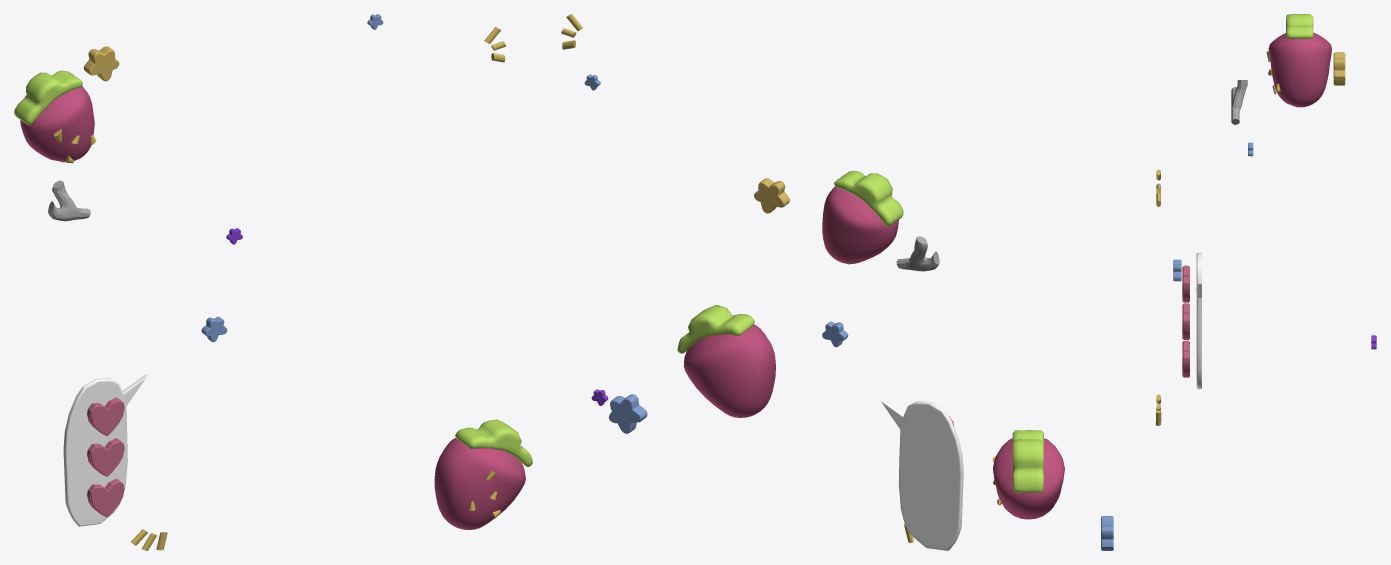
Rendered from Stuff.fbx.
3 views of the same model, side by side, from view 1: azimuth 30°, elevation 25°; view 2: azimuth 150°, elevation 25°; view 3: azimuth 270°, elevation 25° (orthographic). The views are drawn at different scales.
Parts seen in each view (by area): view 1: SpeechBubble, Strawberry1_Body, Strawberry_Body, Star, Leak; view 2: SpeechBubble, Strawberry1_Body, Strawberry_Body, Star, Leak; view 3: Strawberry1_Body, Strawberry_Body, SpeechBubble, Star, Leak.
Boxes of the visible parts, x1,y1,x2,y2 form: SpeechBubble: (63, 374, 147, 526); Strawberry1_Body: (434, 419, 532, 529); Strawberry_Body: (14, 70, 96, 163); Star: (83, 14, 383, 342); Leak: (48, 180, 90, 221); SpeechBubble: (879, 397, 963, 550); Strawberry1_Body: (677, 305, 775, 417); Strawberry_Body: (822, 170, 903, 264); Star: (584, 74, 848, 433); Leak: (896, 236, 939, 271); Strawberry1_Body: (992, 430, 1064, 519); Strawberry_Body: (1266, 14, 1331, 107); SpeechBubble: (1182, 252, 1201, 389); Star: (1101, 52, 1376, 550); Leak: (1231, 80, 1247, 124).
Size of the model in its own units: 42.69 by 42.86 by 36.69.
